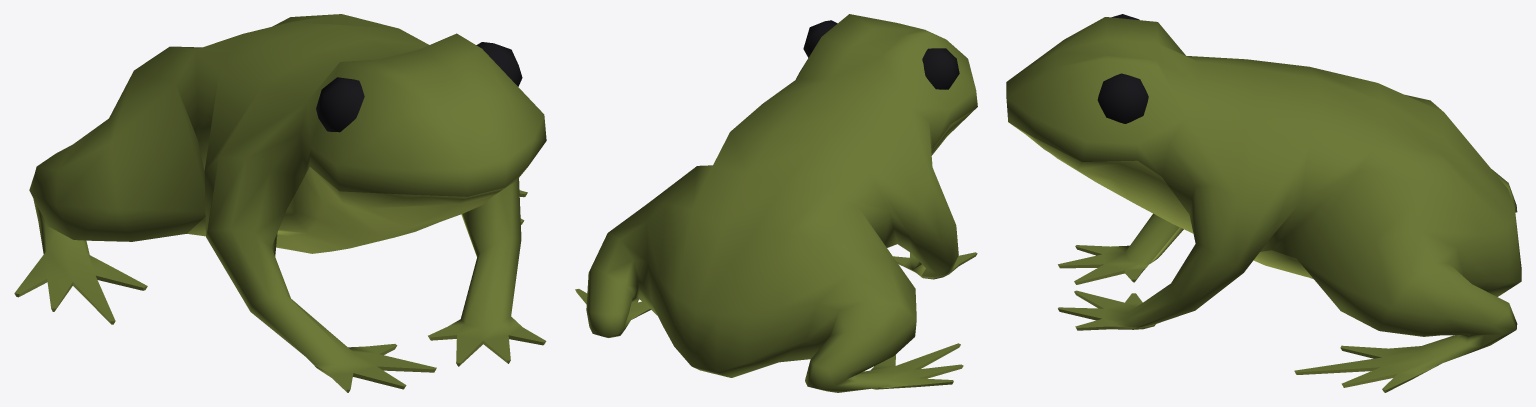
Rendered from Frog_1.gltf.
3 views of the same model, side by side, from view 1: azimuth 30°, elevation 25°; view 2: azimuth 150°, elevation 25°; view 3: azimuth 270°, elevation 25° (orthographic). The views are drawn at different scales.
Parts seen in each view (by area): view 1: Frog_1; view 2: Frog_1; view 3: Frog_1.
Boxes of the visible parts, x1,y1,x2,y2 form: Frog_1: (14,14,546,392); Frog_1: (575,14,977,392); Frog_1: (1006,14,1521,392).
Size of the model in its own units: 22.65 by 12.78 by 23.74.
Materials: 1 (1 with a texture image).
